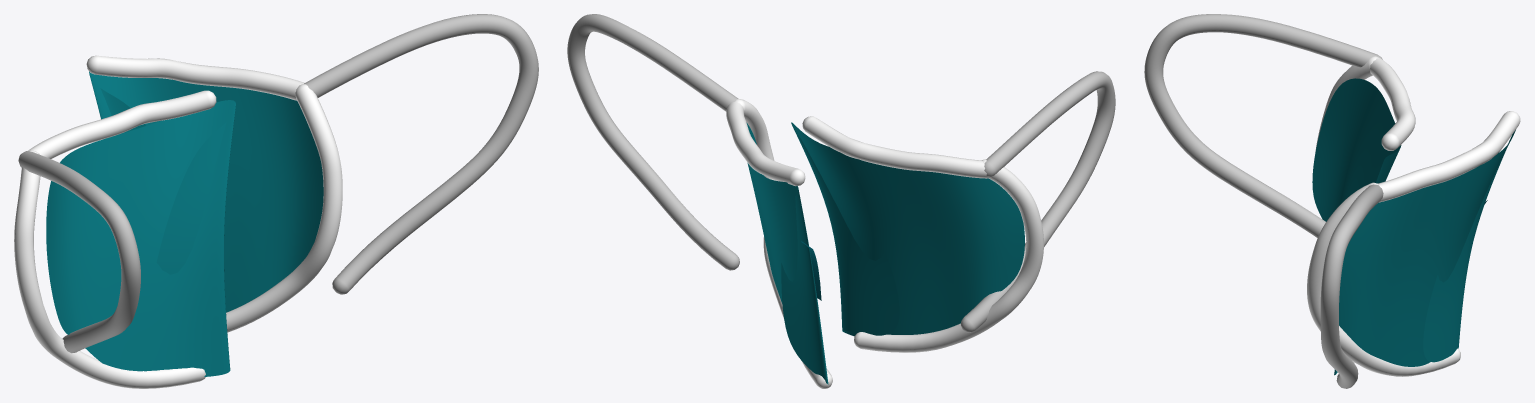
The model's file is mask2_.fbx.
3 renders of one model, left to right at view 1: azimuth 30°, elevation 25°; view 2: azimuth 150°, elevation 25°; view 3: azimuth 270°, elevation 25°, orthographic. The views are drawn at different scales.
Parts seen in each view (by area): view 1: s.0078 (×2), s.0083 (×2), s.0081 (×2), s.0082 (×2); view 2: s.0078 (×2), s.0083 (×2), s.0081 (×2), s.0082 (×2); view 3: s.0078 (×2), s.0083 (×2), s.0082 (×2), s.0081 (×2).
Part boxes in pixels (x1,y1,x2,y2): s.0078 (×2): [46, 71, 323, 376]; s.0083 (×2): [18, 14, 538, 353]; s.0081 (×2): [14, 84, 342, 388]; s.0082 (×2): [28, 55, 304, 158]; s.0078 (×2): [746, 122, 1024, 384]; s.0083 (×2): [567, 14, 1115, 332]; s.0081 (×2): [736, 99, 1043, 388]; s.0082 (×2): [726, 101, 991, 186]; s.0078 (×2): [1312, 78, 1515, 375]; s.0083 (×2): [1144, 14, 1383, 388]; s.0082 (×2): [1369, 58, 1520, 202]; s.0081 (×2): [1307, 56, 1460, 376].
Size of the model in its own units: 439 by 239 by 288.
